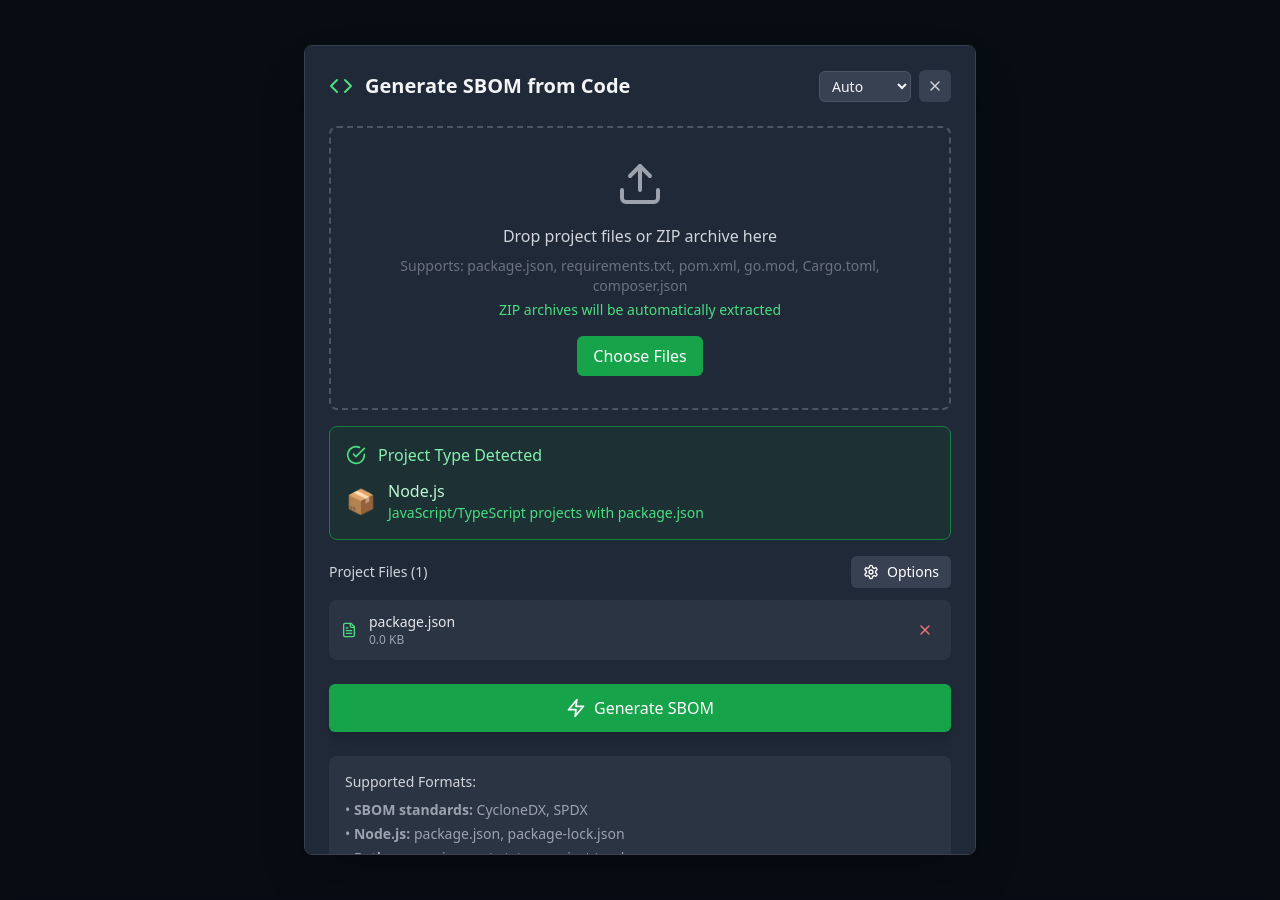
Test: CodeUploader › should toggle options panel
This screenshot has width=1280, height=900.
Earlier steps of the test are not shown.
Click the button "Options" at [901, 572], box [851, 556, 951, 588]
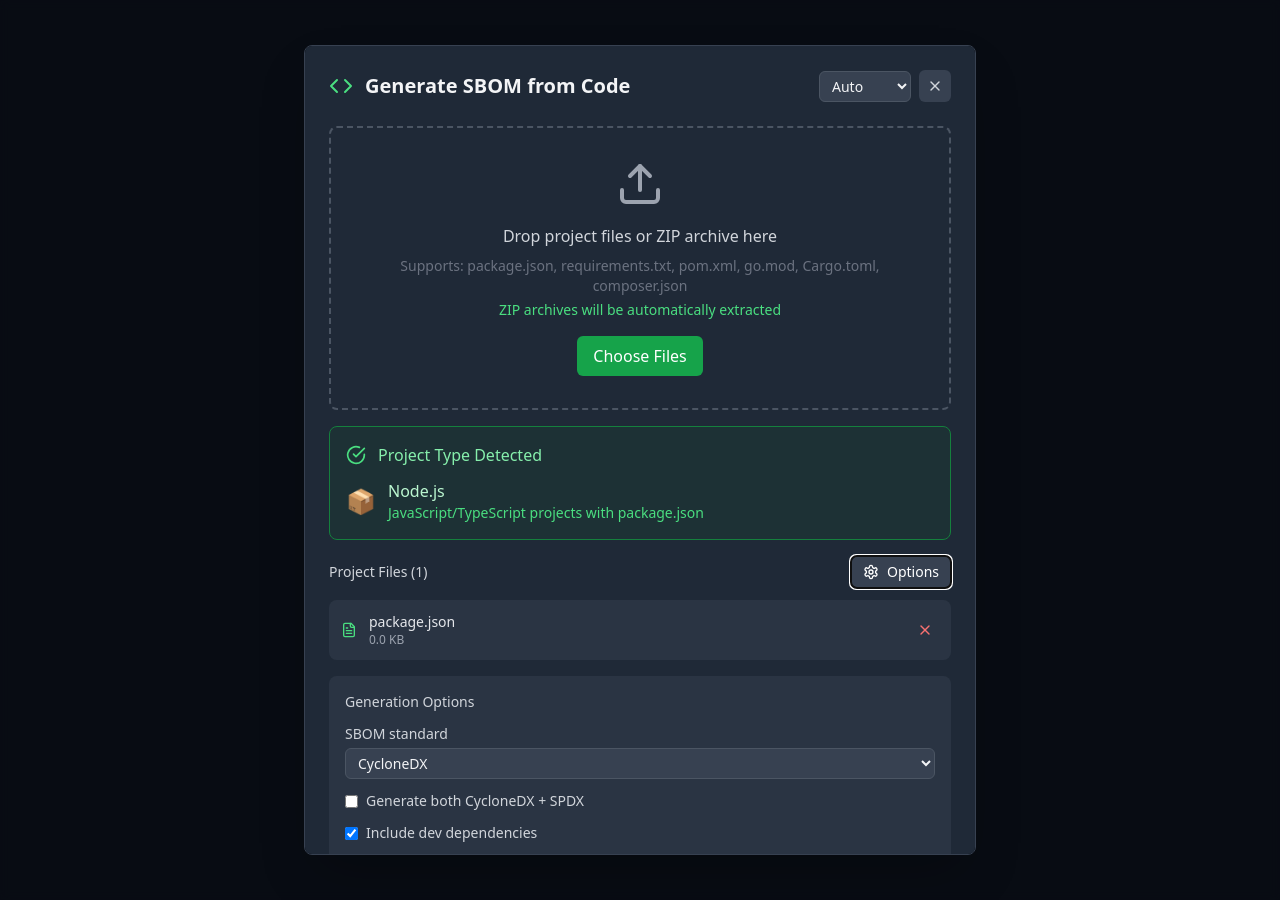
Check: the heading "Generation Options" is shown, box [345, 692, 474, 711]
